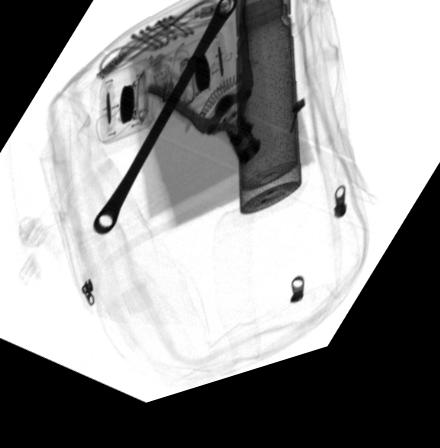Pliers: (144, 8, 262, 182)
Wrench: (92, 4, 238, 239)
